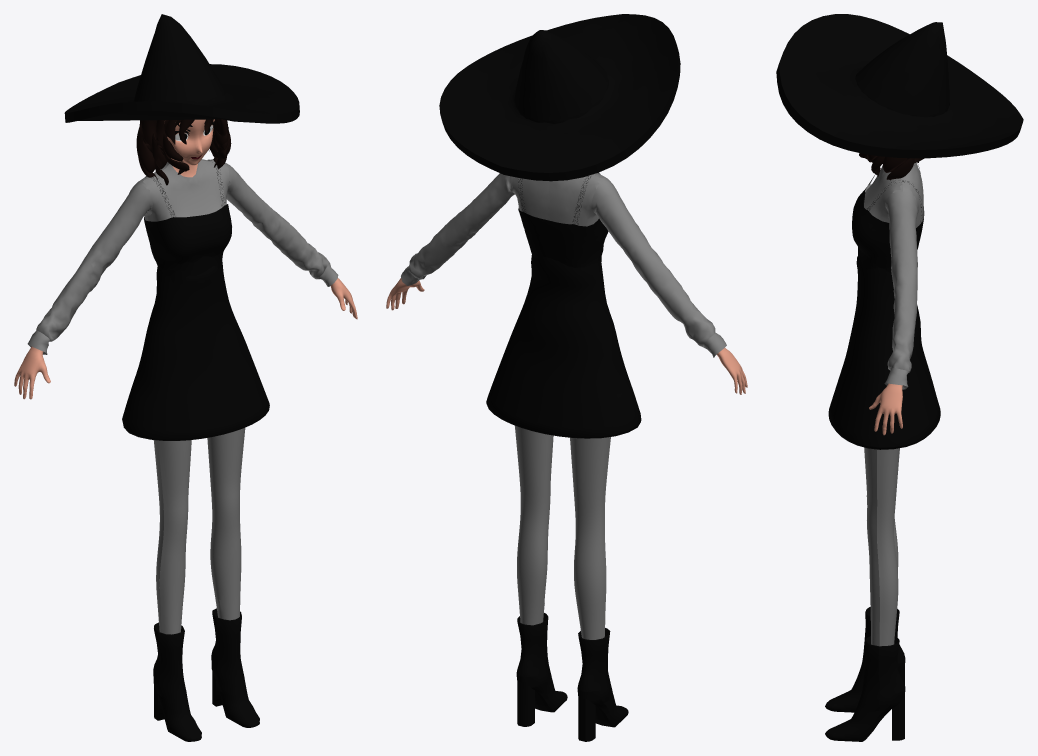
File: witch.fbx
The picture shows the model from 3 angles, left to right: view 1: azimuth 30°, elevation 25°; view 2: azimuth 150°, elevation 25°; view 3: azimuth 270°, elevation 25°; orthographic projection. The views are drawn at different scales.
Visible parts, largest first — view 1: dress_2, dress, Hat, leg2, leg, boots_2, boots, HAIR2, face, Plane005; view 2: Hat, dress_2, dress, leg2, leg, boots, boots_2, Plane005; view 3: Hat, dress_2, dress, leg, boots, boots_2, Plane006, HAIR2.
Part boxes in pixels (x1,y1,x2,y2): dress_2: (122, 261, 269, 440); dress: (27, 158, 338, 354); Hat: (64, 14, 299, 123); leg2: (153, 440, 191, 634); leg: (207, 428, 245, 620); boots_2: (153, 622, 201, 741); boots: (211, 608, 259, 727); HAIR2: (136, 119, 231, 185); face: (164, 119, 214, 165); Plane005: (14, 346, 50, 399); Hat: (439, 14, 680, 181); dress_2: (486, 254, 641, 438); dress: (401, 172, 726, 357); leg2: (570, 437, 610, 639); leg: (514, 425, 553, 625); boots: (516, 613, 567, 726); boots_2: (577, 628, 628, 741); Plane005: (716, 348, 747, 394); Hat: (776, 14, 1023, 158); dress_2: (828, 256, 940, 449); dress: (852, 162, 924, 389); leg: (864, 447, 899, 646); boots: (825, 636, 905, 741); boots_2: (825, 607, 905, 712); Plane006: (869, 383, 902, 435); HAIR2: (859, 153, 930, 180).
Bounding box in the file's own units: 36.66 × 71.58 × 23.01.
